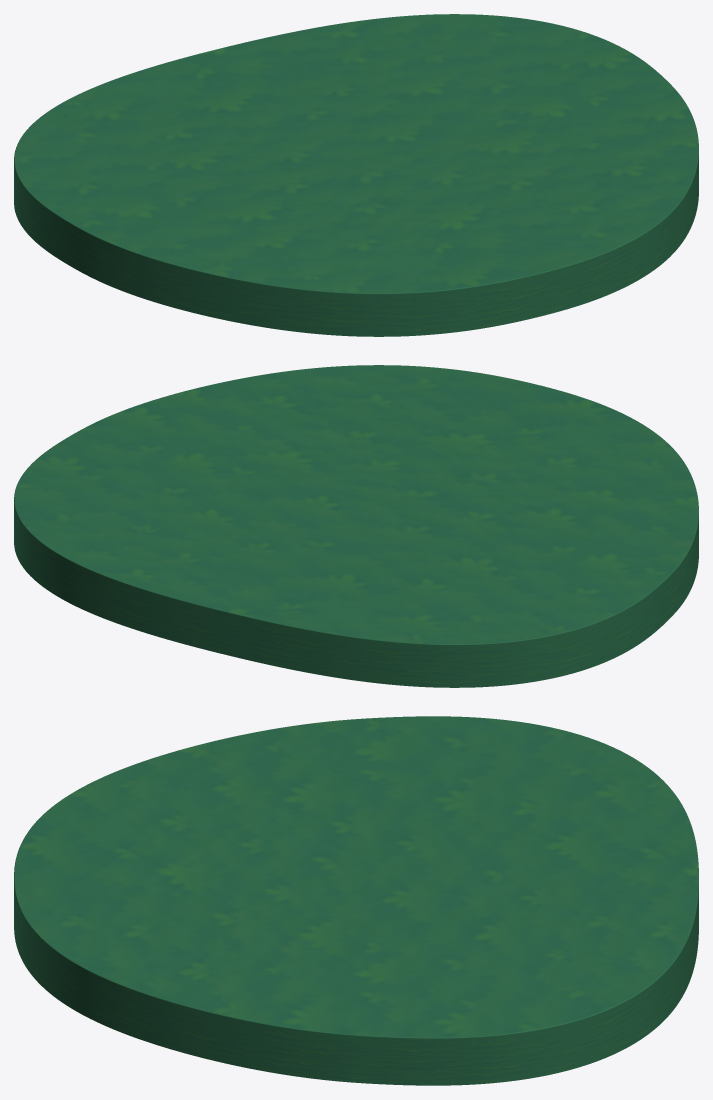
Rendered from starter-19.glb.
The picture shows the model from 3 angles, top to bottom: view 1: azimuth 30°, elevation 25°; view 2: azimuth 150°, elevation 25°; view 3: azimuth 270°, elevation 25°; orthographic projection. The views are drawn at different scales.
Visible parts, largest first — view 1: geometry_0; view 2: geometry_0; view 3: geometry_0.
Part boxes in pixels (<box>): geometry_0: <box>14,14,698,336</box>; geometry_0: <box>14,365,698,687</box>; geometry_0: <box>14,716,698,1085</box>.
Size of the model in its own units: 86.94 by 6 by 78.15.
1 material, 1 textured.
